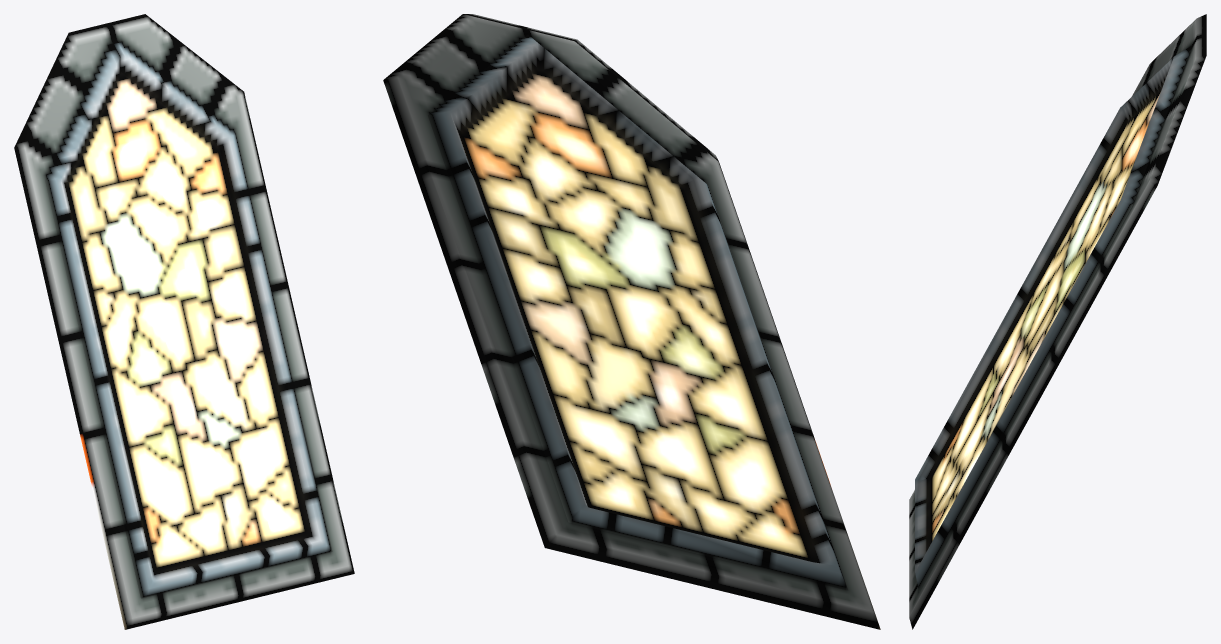
File: deco_cathedral_stainedGlass.FBX
3 views of the same model, side by side, from view 1: azimuth 30°, elevation 25°; view 2: azimuth 150°, elevation 25°; view 3: azimuth 270°, elevation 25° (orthographic). The views are drawn at different scales.
Parts seen in each view (by area): view 1: deco_cathedral_stainedGlass; view 2: deco_cathedral_stainedGlass; view 3: deco_cathedral_stainedGlass.
Part boxes in pixels (<box>): deco_cathedral_stainedGlass: <box>14,14,354,629</box>; deco_cathedral_stainedGlass: <box>383,14,880,629</box>; deco_cathedral_stainedGlass: <box>909,14,1206,629</box>.
Size of the model in its own units: 2 by 4 by 2.02.
Materials: 1 (1 with a texture image).
